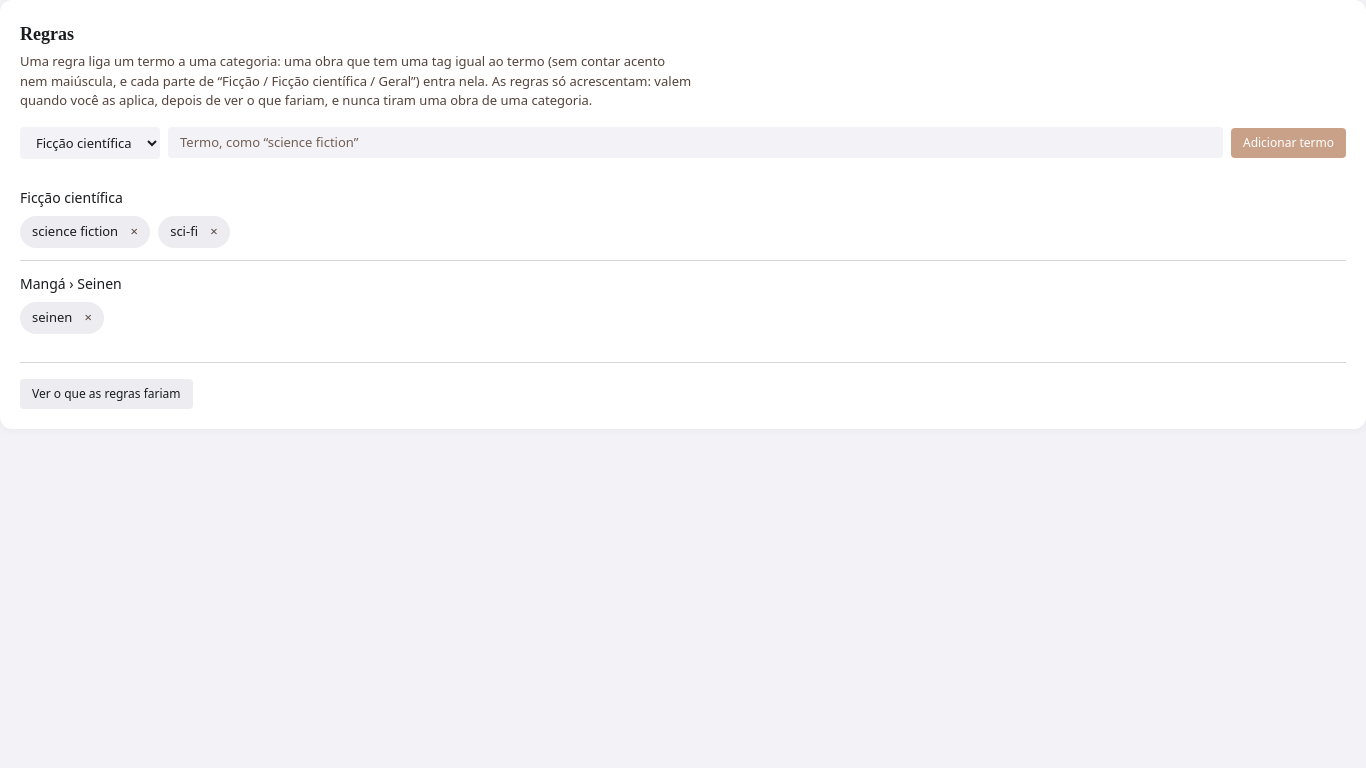
Test case: CategoryRules: what they would do, and doing it › shows what applying them would do, per category, and how many works stay without one
This screenshot has width=1366, height=768.
Click the button "Ver o que as regras fariam" at (106, 394), box [20,378,192,408]
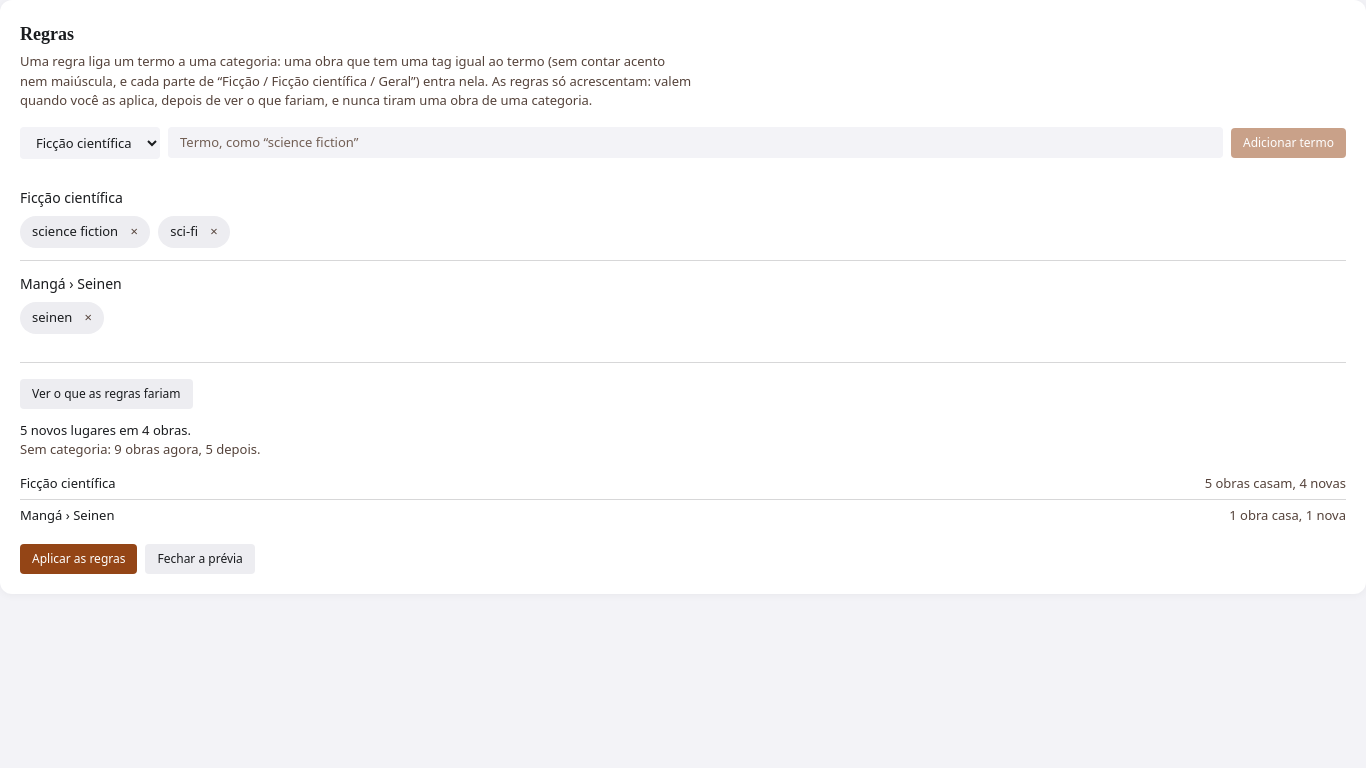
expect the element named "Prévia das regras" shows "5 novos lugares em 4 obras.": met, box [20,420,191,438]
expect the element named "Prévia das regras" shows "Sem categoria: 9 obras agora, 5 depois.": met, box [20,420,1346,574]
